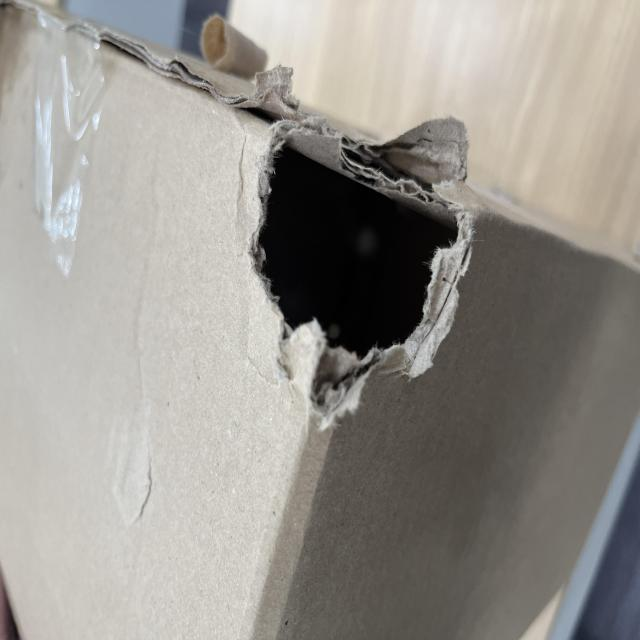damaged: (174, 334, 382, 614)
